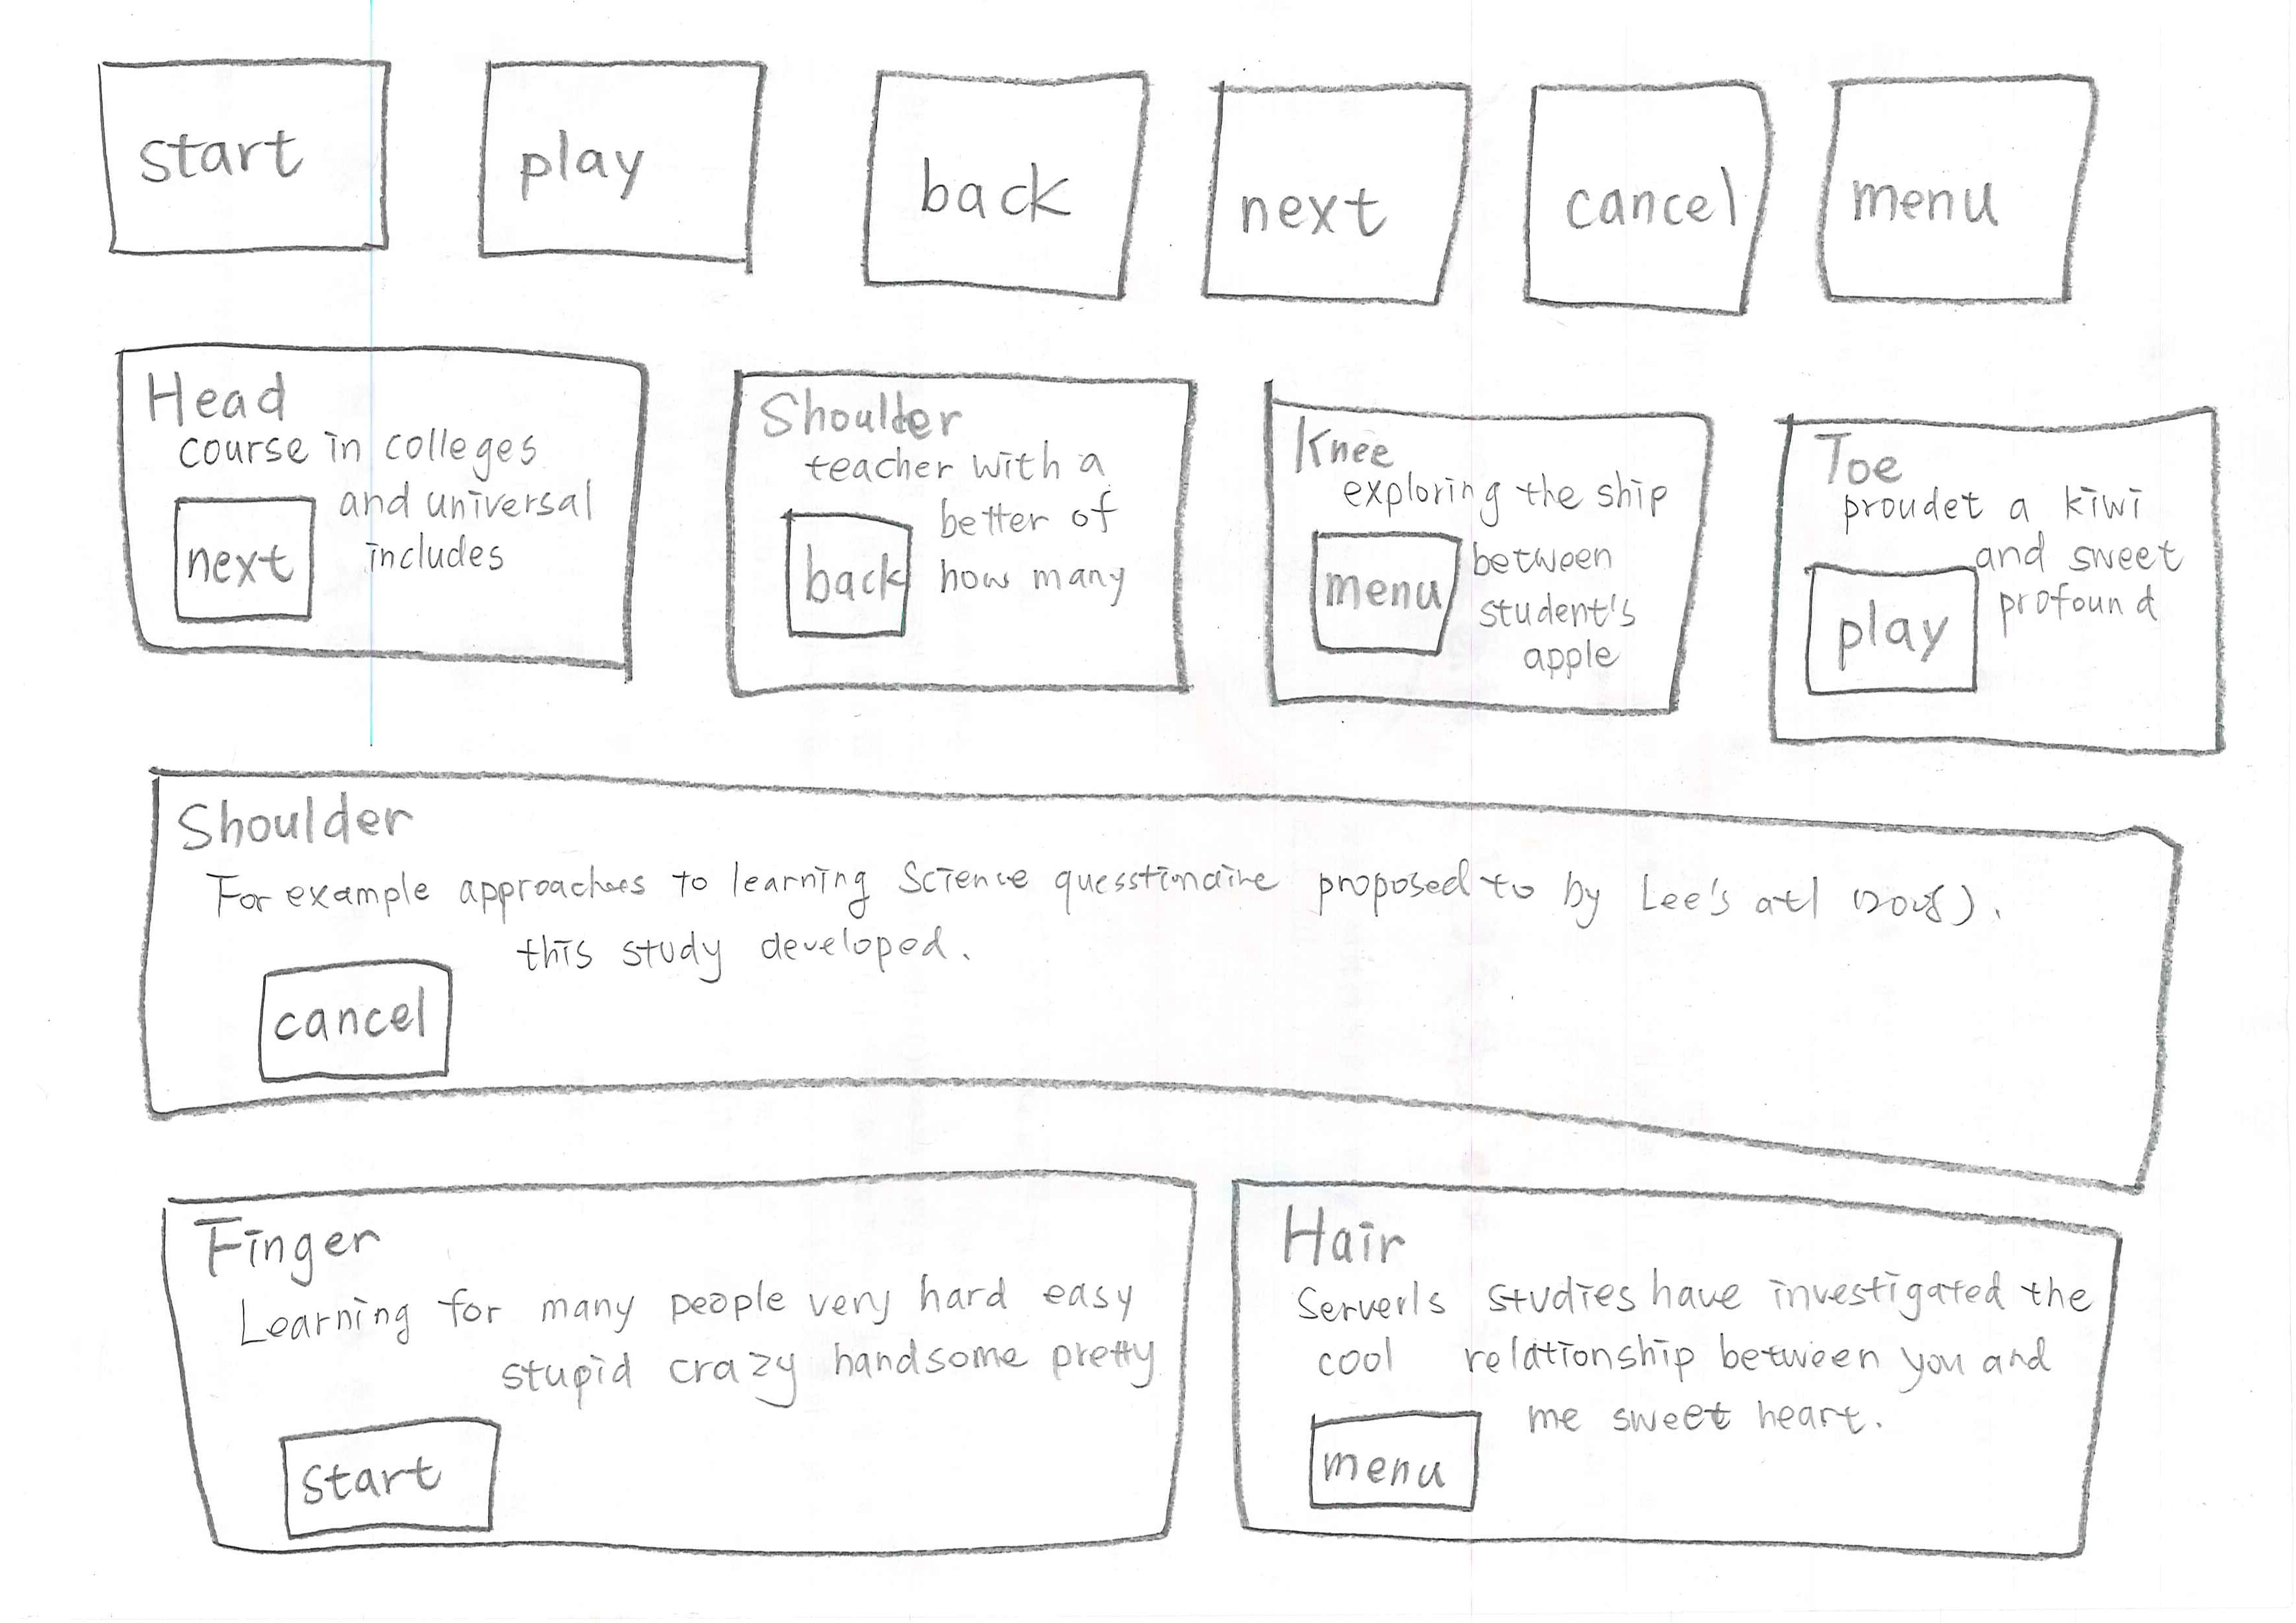back: (838, 47, 1177, 332), (757, 487, 945, 655)
cancel: (1483, 33, 1787, 355), (241, 947, 474, 1087)
double: (1200, 1161, 2296, 1614), (121, 1140, 1217, 1591)
menu: (1801, 28, 2113, 335), (1295, 1391, 1502, 1526), (1298, 523, 1470, 680)
next: (1189, 49, 1484, 337), (153, 471, 327, 638)
play: (451, 33, 810, 300), (1783, 525, 1980, 713)
quadruple: (61, 327, 683, 720), (1219, 353, 1755, 761), (1762, 369, 2296, 776), (683, 337, 1217, 743)
row: (19, 1126, 2296, 1623), (19, 717, 2296, 1212), (19, 318, 2296, 783), (19, 0, 2296, 350)
single: (104, 732, 2222, 1224)
small-title: (184, 1203, 411, 1284), (768, 376, 993, 457), (179, 783, 432, 845), (146, 351, 313, 432), (1277, 1203, 1439, 1284), (1289, 415, 1407, 480), (1790, 430, 1899, 485)
start: (58, 28, 418, 300), (265, 1405, 508, 1551)
text: (209, 843, 2011, 941), (1516, 1273, 2069, 1458), (1296, 1277, 2068, 1396), (527, 1273, 1177, 1403), (234, 1270, 1140, 1358), (511, 901, 977, 1003), (350, 437, 594, 587), (1477, 478, 1655, 682), (936, 455, 1154, 617), (1990, 469, 2175, 636), (181, 422, 555, 474), (1850, 478, 2180, 532), (817, 436, 1119, 494), (1325, 474, 1671, 520)
